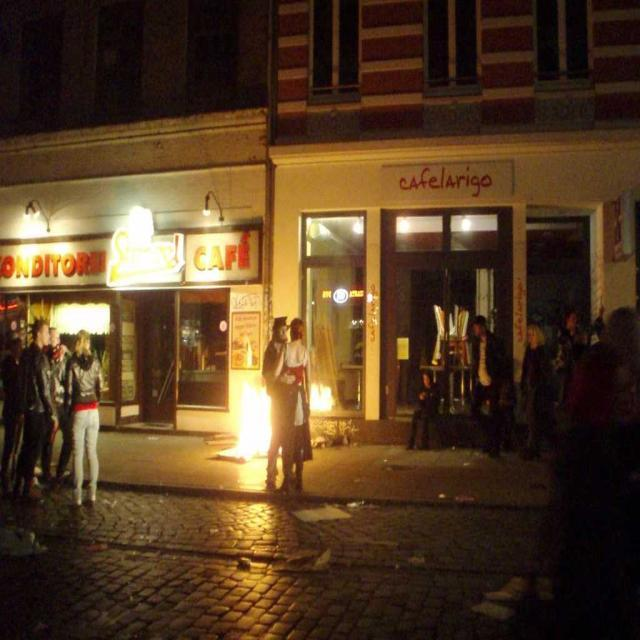Fire: (232, 372, 272, 462)
